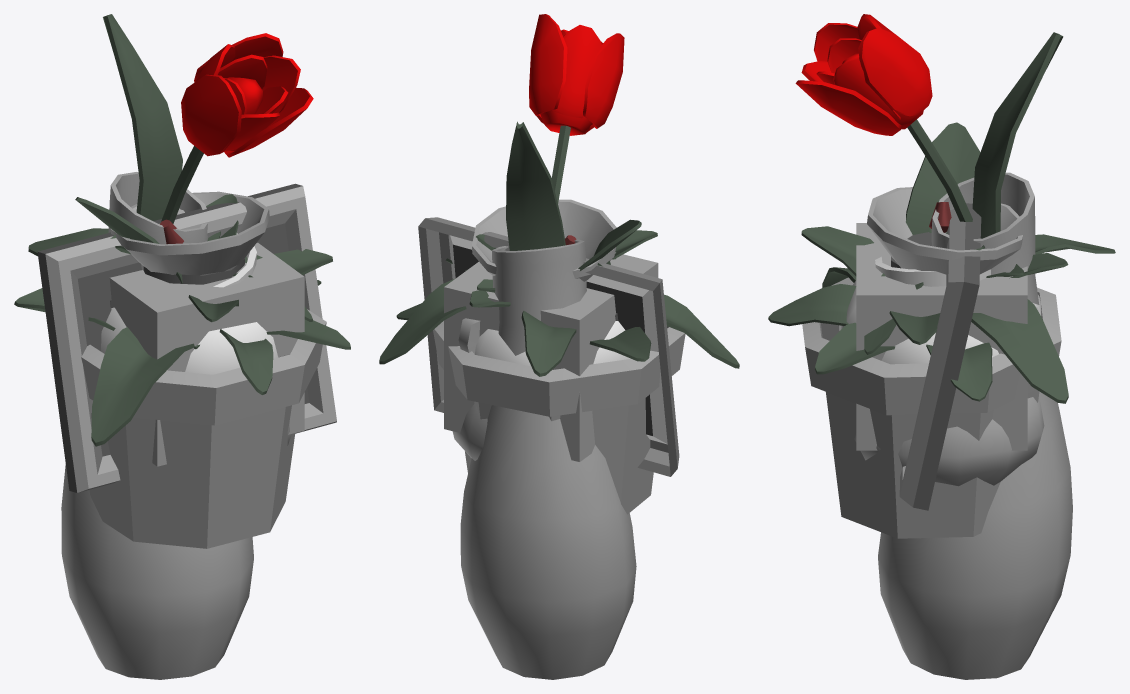
File: Item.fbx
3 views of the same model, side by side, from view 1: azimuth 30°, elevation 25°; view 2: azimuth 150°, elevation 25°; view 3: azimuth 270°, elevation 25° (orthographic). The views are drawn at different scales.
Parts seen in each view (by area): view 1: polySurface9459, polySurface11022, polySurface11776, pCube1153, polySurface11747, polySurface11752, polySurface11765; view 2: polySurface9459, polySurface11022, polySurface11776, pCube1153, polySurface11747, polySurface11752, polySurface11733; view 3: polySurface9459, polySurface11022, polySurface11747, pCube1153, polySurface11776, polySurface11752, polySurface11765, polySurface10987.
Boxes of the visible parts, left/top/right/bottom form: polySurface9459: left=61, top=14, right=313, bottom=679; polySurface11022: left=14, top=194, right=350, bottom=548; polySurface11776: left=37, top=183, right=336, bottom=492; pCube1153: left=109, top=242, right=304, bottom=466; polySurface11747: left=110, top=191, right=291, bottom=445; polySurface11752: left=101, top=258, right=278, bottom=374; polySurface11765: left=110, top=219, right=312, bottom=349; polySurface9459: left=460, top=14, right=636, bottom=679; polySurface11022: left=379, top=219, right=739, bottom=514; polySurface11776: left=418, top=217, right=679, bottom=476; pCube1153: left=444, top=252, right=658, bottom=461; polySurface11747: left=452, top=199, right=616, bottom=460; polySurface11752: left=474, top=321, right=630, bottom=366; polySurface11733: left=458, top=318, right=480, bottom=353; polySurface9459: left=795, top=14, right=1072, bottom=679; polySurface11022: left=768, top=122, right=1115, bottom=538; polySurface11747: left=854, top=187, right=1044, bottom=486; pCube1153: left=856, top=223, right=1027, bottom=450; polySurface11776: left=899, top=203, right=981, bottom=510; polySurface11752: left=839, top=232, right=1041, bottom=364; polySurface11765: left=864, top=202, right=1023, bottom=354; polySurface10987: left=875, top=256, right=990, bottom=286.
Size of the model in its own units: 2.02 by 4.2 by 2.03.
